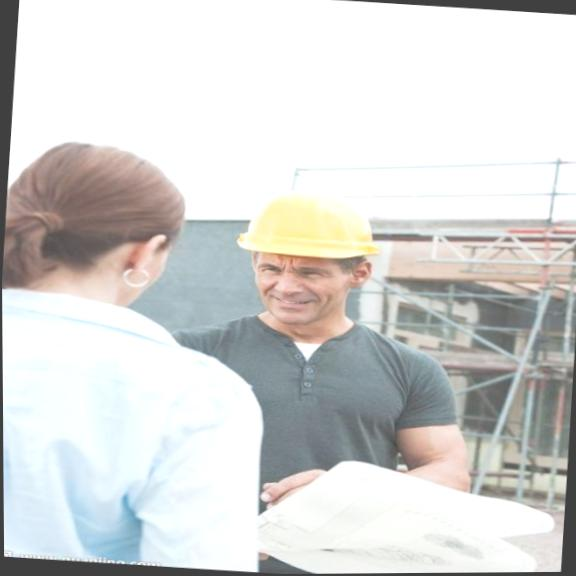no_safety_vest: (152, 302, 489, 575), (2, 285, 283, 574)
